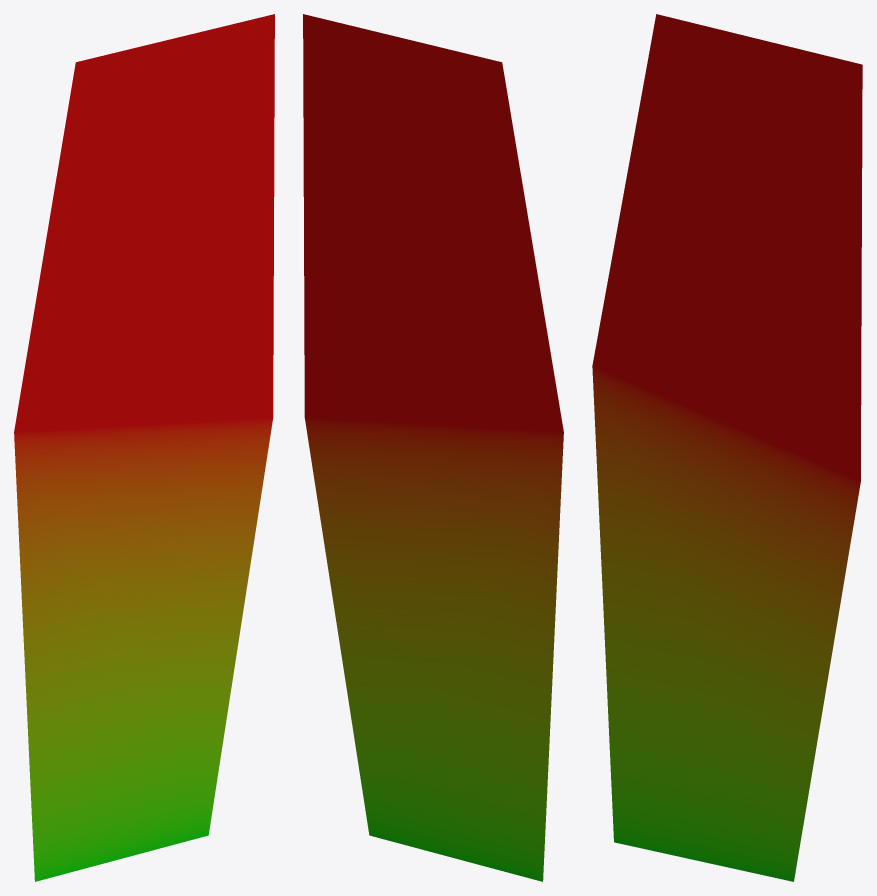
Rendered from Crownbeard_LOD4_Var4_tefoajkr.fbx.
The picture shows the model from 3 angles, left to right: view 1: azimuth 30°, elevation 25°; view 2: azimuth 150°, elevation 25°; view 3: azimuth 330°, elevation 25°; orthographic projection. The views are drawn at different scales.
Parts seen in each view (by area): view 1: _2c52_Var4_LOD4; view 2: _2c52_Var4_LOD4; view 3: _2c52_Var4_LOD4.
Part boxes in pixels (left/top/right/bottom): _2c52_Var4_LOD4: left=14, top=14, right=274, bottom=881; _2c52_Var4_LOD4: left=303, top=14, right=563, bottom=881; _2c52_Var4_LOD4: left=592, top=14, right=862, bottom=881.
Bounding box in the file's own units: 23.99 × 71.16 × 5.63e-05.
